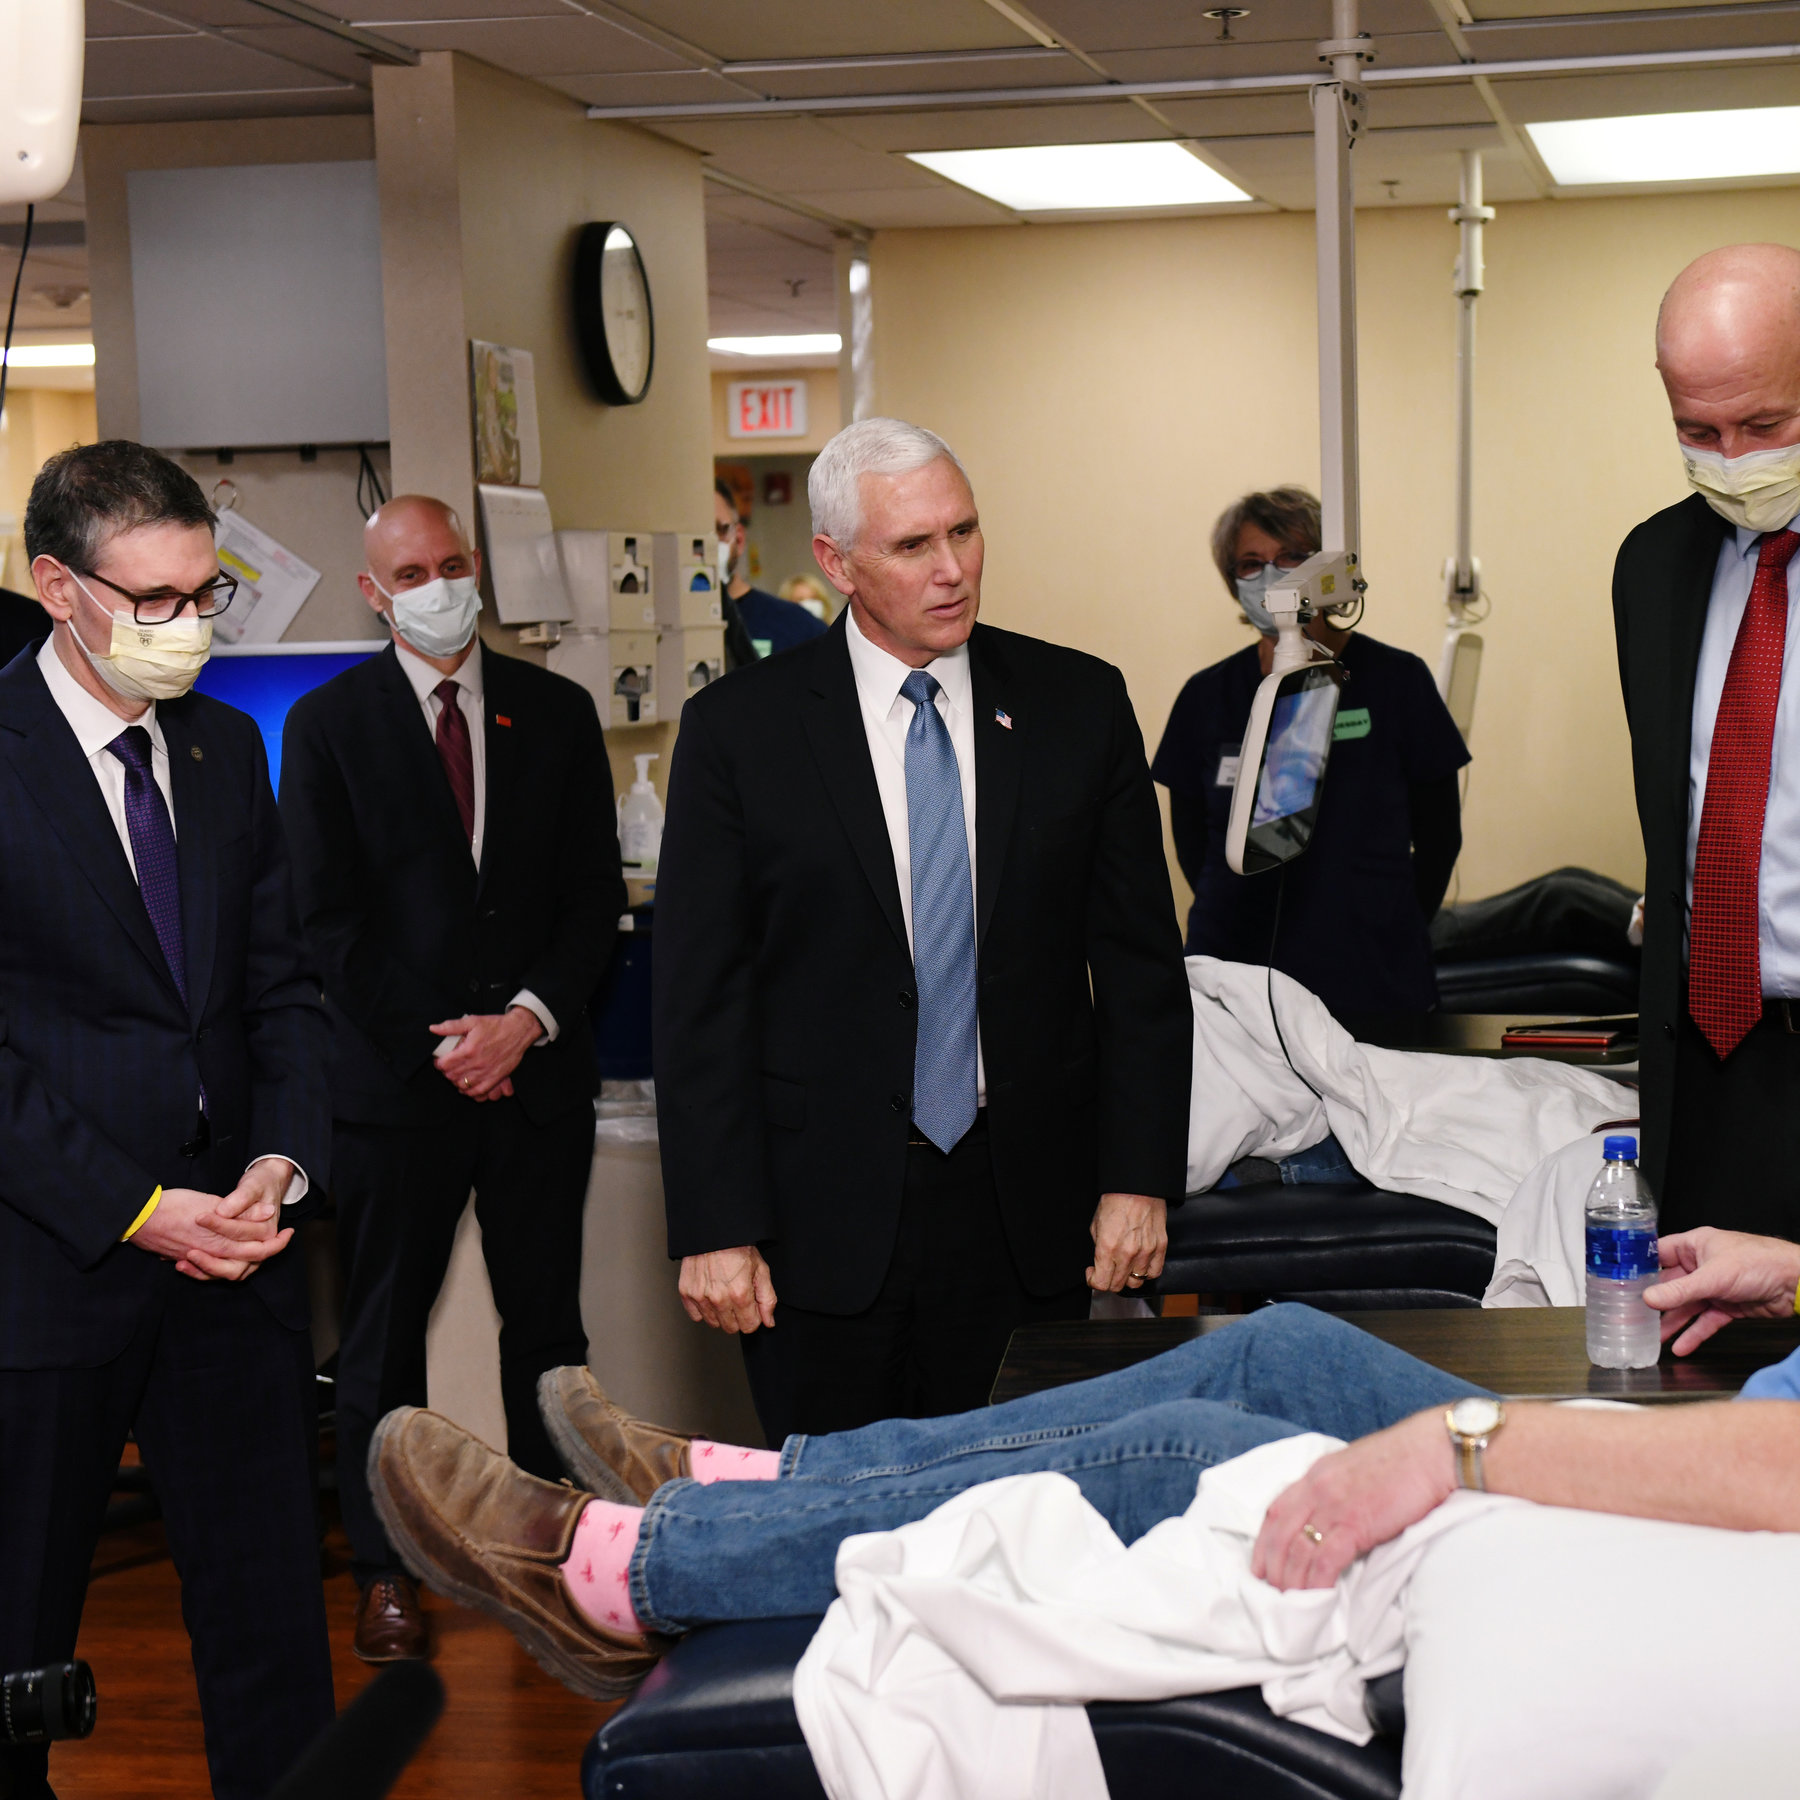with_mask: (1659, 319, 1800, 528), (82, 536, 232, 703), (384, 519, 487, 650)
without_mask: (868, 480, 995, 650)
